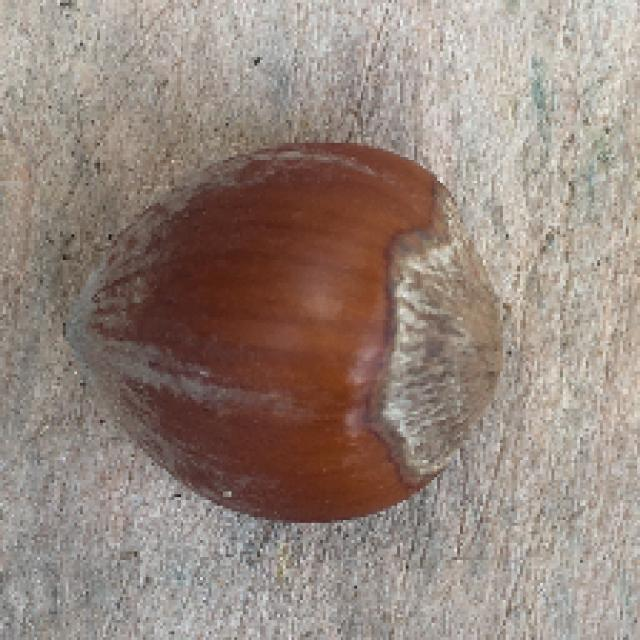qualityHazelnut: (57, 132, 509, 531)
